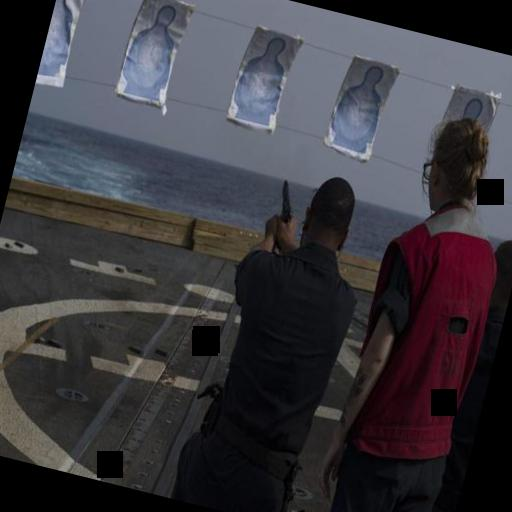Handgun: (270, 176, 302, 224)
